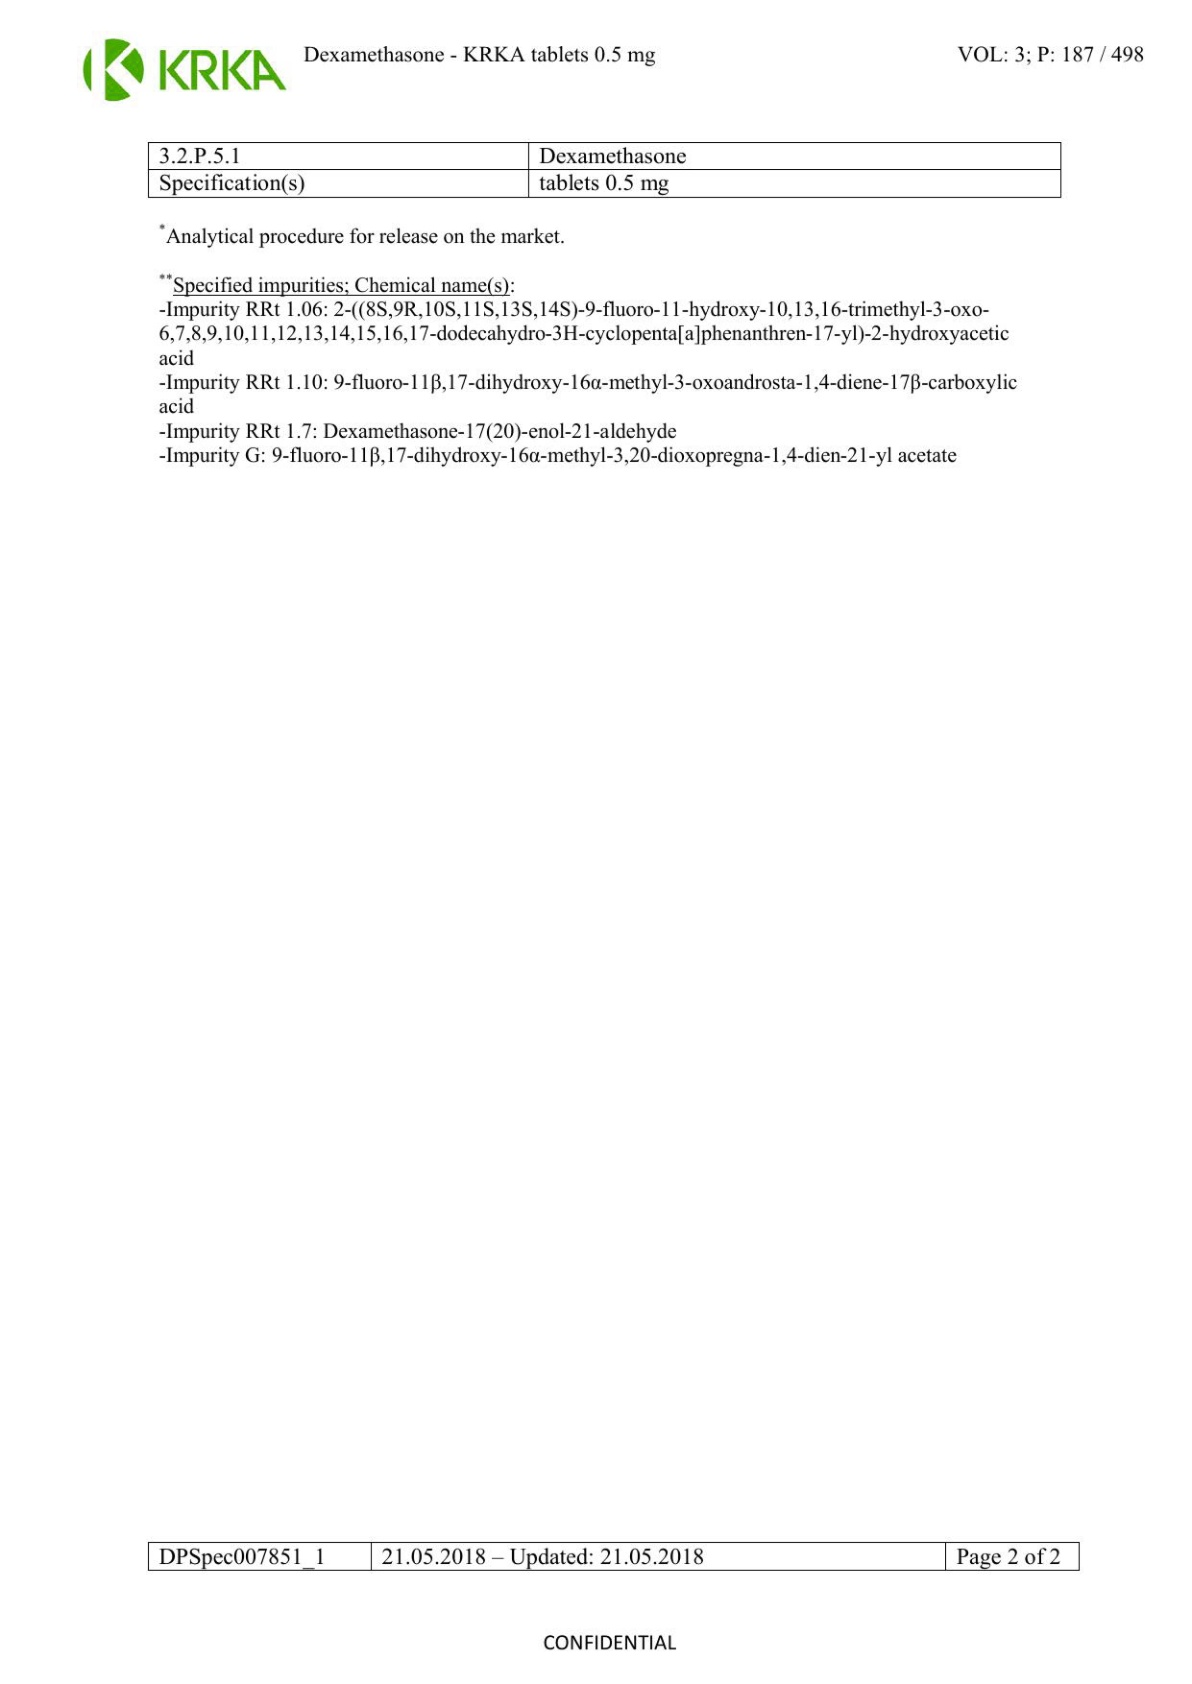full_lined: (146, 141, 1062, 199), (146, 1541, 1080, 1571)
